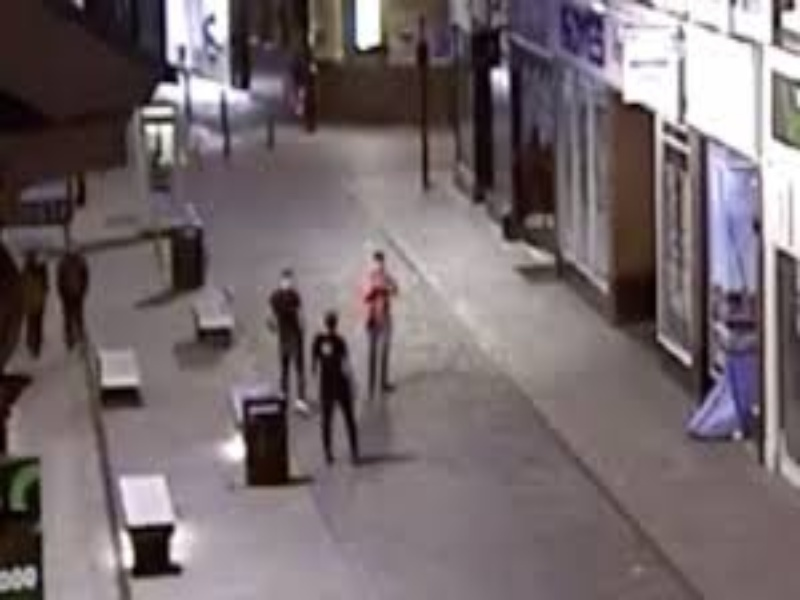person: (303, 303, 369, 472), (261, 265, 318, 421), (353, 244, 405, 401), (54, 235, 95, 355), (17, 244, 51, 363)
